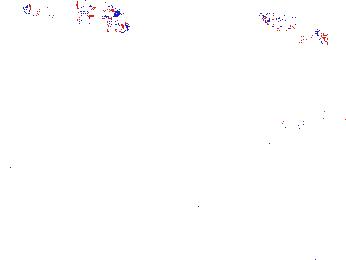glassfish: (252, 109, 346, 148)
red belly glassfish: (21, 1, 54, 18), (103, 19, 131, 36)
redtail glassfish: (256, 10, 331, 47), (64, 1, 126, 21)
